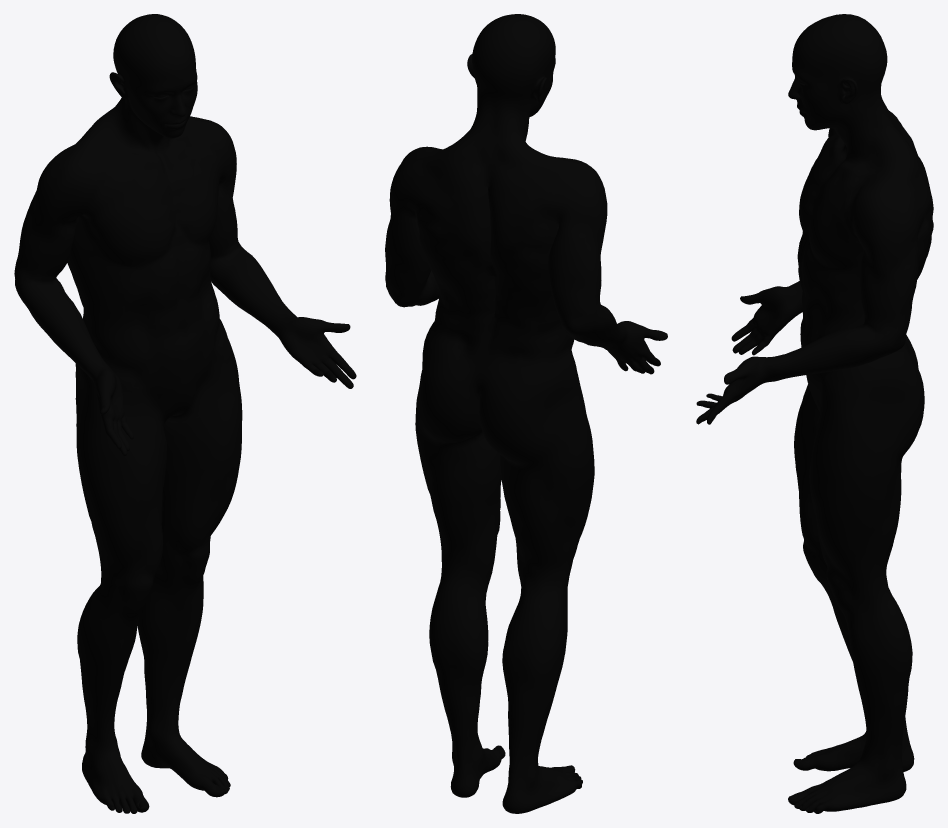
The picture shows the model from 3 angles, left to right: view 1: azimuth 30°, elevation 25°; view 2: azimuth 150°, elevation 25°; view 3: azimuth 270°, elevation 25°; orthographic projection.
Visible parts, largest first — view 1: mesh_id6, mesh_id8, mesh_id126, mesh_id9, mesh_id48, mesh_id106, mesh_id54, mesh_id30, mesh_id12, mesh_id88, mesh_id10, mesh_id112 (+3 smaller); view 2: mesh_id6, mesh_id9, mesh_id8, mesh_id126, mesh_id48, mesh_id106, mesh_id30, mesh_id54, mesh_id112, mesh_id88, mesh_id12, mesh_id44 (+12 smaller); view 3: mesh_id6, mesh_id8, mesh_id9, mesh_id106, mesh_id126, mesh_id88, mesh_id112, mesh_id100, mesh_id70, mesh_id48, mesh_id82, mesh_id113 (+7 smaller).
Part boxes in pixels (x1,y1,x2,y2): mesh_id6: (77, 427, 241, 813); mesh_id8: (14, 166, 356, 455); mesh_id126: (67, 156, 220, 361); mesh_id9: (88, 14, 197, 164); mesh_id48: (75, 161, 184, 435); mesh_id106: (165, 147, 239, 411); mesh_id54: (76, 140, 161, 447); mesh_id30: (75, 344, 184, 454); mesh_id12: (73, 279, 179, 324); mesh_id88: (164, 318, 241, 432); mesh_id10: (77, 274, 180, 313); mesh_id112: (191, 118, 241, 417); mesh_id6: (416, 438, 594, 813); mesh_id9: (440, 14, 555, 185); mesh_id8: (385, 196, 667, 373); mesh_id126: (417, 153, 558, 305); mesh_id48: (478, 295, 587, 456); mesh_id106: (416, 293, 488, 436); mesh_id30: (479, 341, 591, 466); mesh_id54: (479, 158, 590, 463); mesh_id112: (415, 147, 493, 442); mesh_id88: (415, 318, 486, 444); mesh_id12: (494, 199, 561, 331); mesh_id44: (478, 344, 572, 449); mesh_id6: (788, 421, 914, 813); mesh_id8: (696, 237, 918, 424); mesh_id9: (788, 14, 922, 176); mesh_id106: (807, 168, 924, 450); mesh_id126: (797, 147, 933, 346); mesh_id88: (806, 348, 922, 468); mesh_id112: (809, 175, 928, 463); mesh_id100: (808, 372, 924, 469); mesh_id70: (804, 180, 928, 321); mesh_id48: (801, 137, 915, 407); mesh_id82: (809, 166, 932, 331); mesh_id113: (849, 180, 926, 235).
Size of the model in its own units: 0.512 by 1.51 by 0.4223.
Materials: 123 (123 with a texture image).
